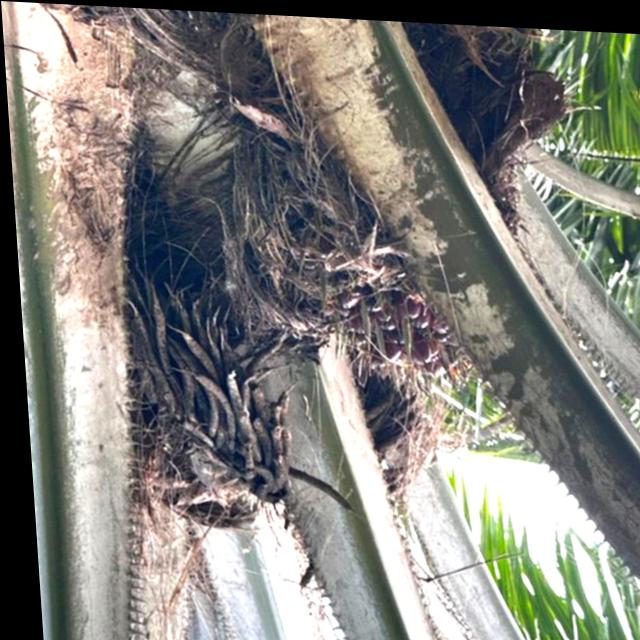ripe: (295, 233, 482, 406)
